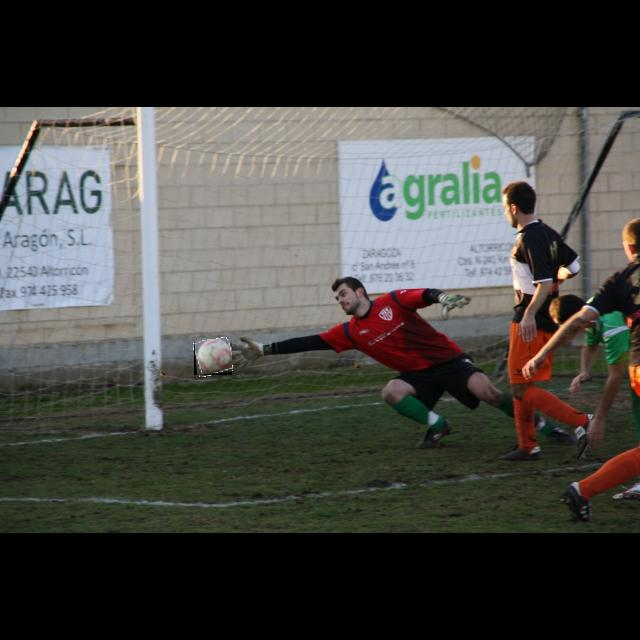Football: (194, 339, 232, 375)
